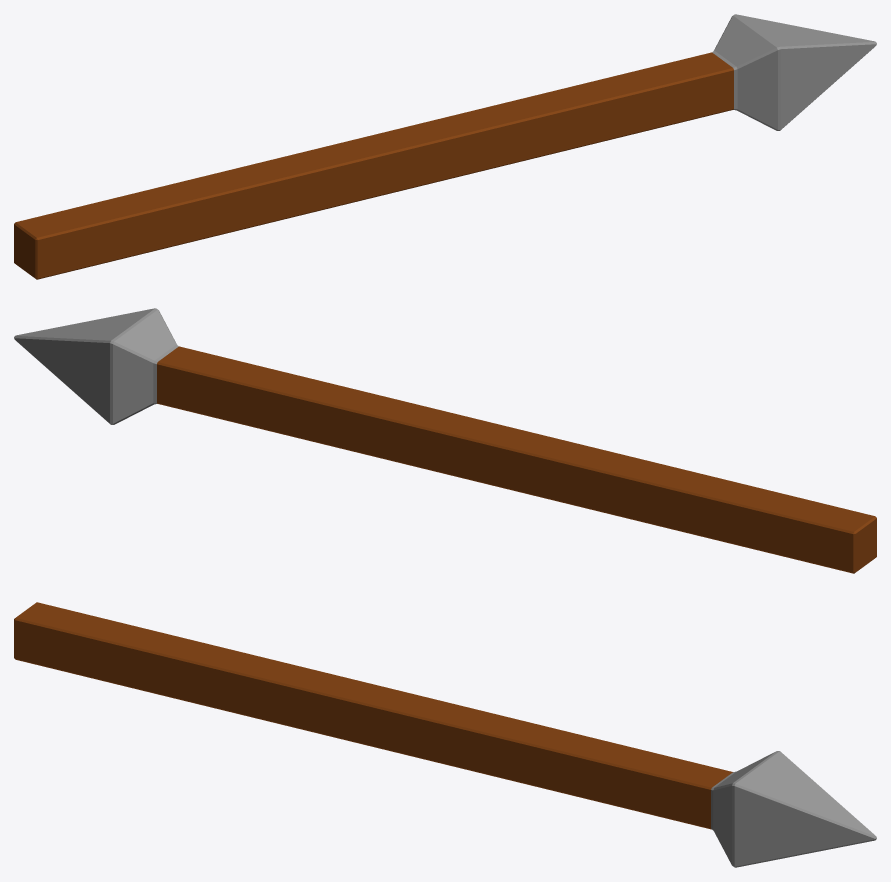
Rendered from arrow.fbx.
The picture shows the model from 3 angles, top to bottom: view 1: azimuth 30°, elevation 25°; view 2: azimuth 150°, elevation 25°; view 3: azimuth 330°, elevation 25°; orthographic projection.
Parts seen in each view (by area): view 1: Arrow; view 2: Arrow; view 3: Arrow.
Boxes of the visible parts, x1,y1,x2,y2 form: Arrow: (14, 14, 876, 279); Arrow: (14, 308, 876, 573); Arrow: (14, 602, 876, 867).
Bounding box in the file's own units: 425 × 40.15 × 40.15.
